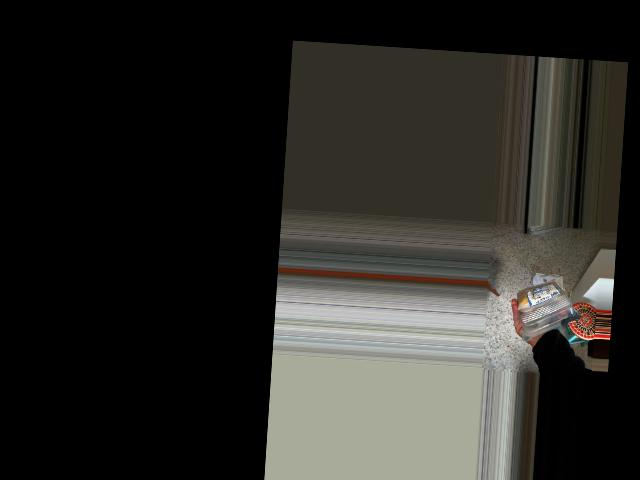cheese: (515, 267, 587, 345)
